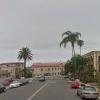Car: (73, 79, 100, 100)
